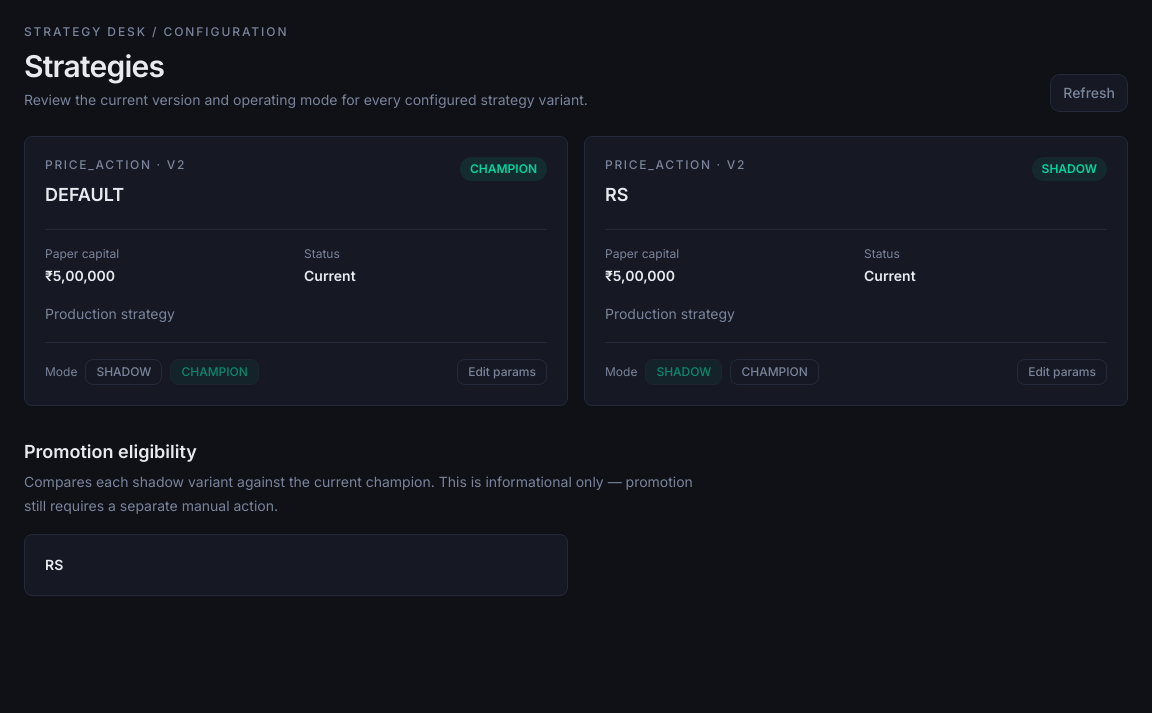
Test: StrategiesView — mode, champion guard and params editor › shows server validation errors inline and keeps the form open
Step 1. Click the button with test id "edit-params-RS" → {"x": 1062, "y": 372}, box [1017,359,1107,385]
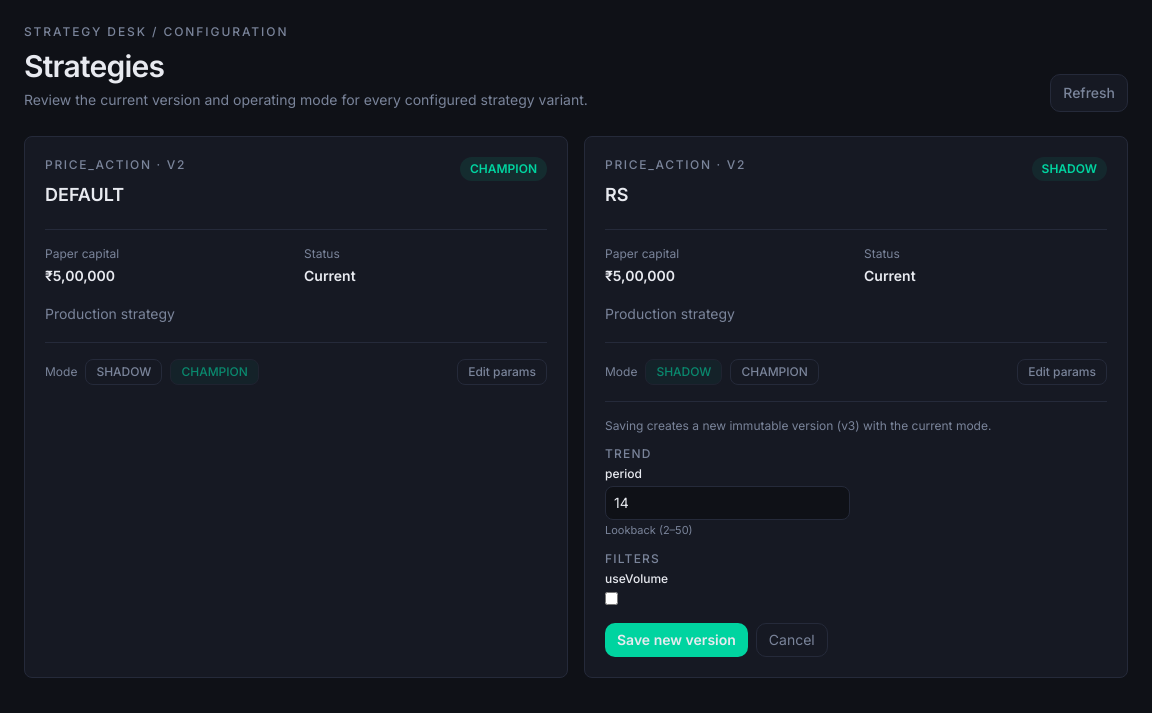
Step 2. Submit the form with test id "params-form", box [605,401,1107,656]
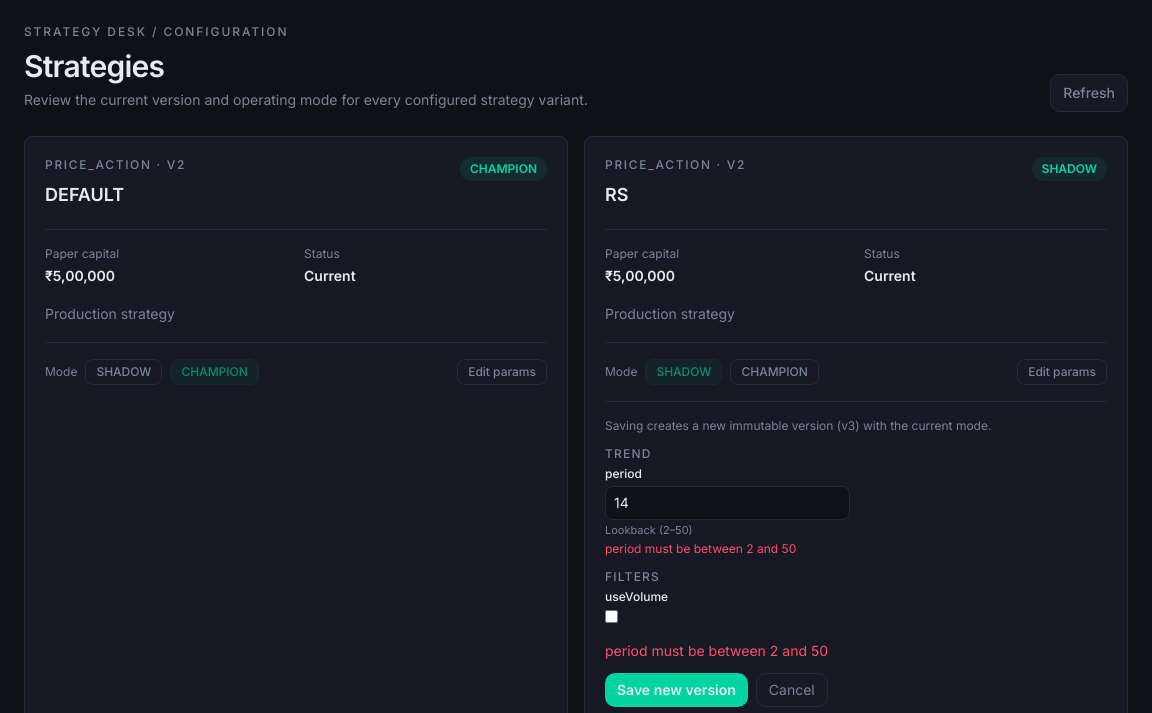
Check: the form with test id "params-form" is shown, box [605,401,1107,706]
Check: the message with test id "params-error" shows "period must be between", box [605,642,828,658]
Check: the text with test id "param-error-period" shows "period must be", box [605,540,796,556]
